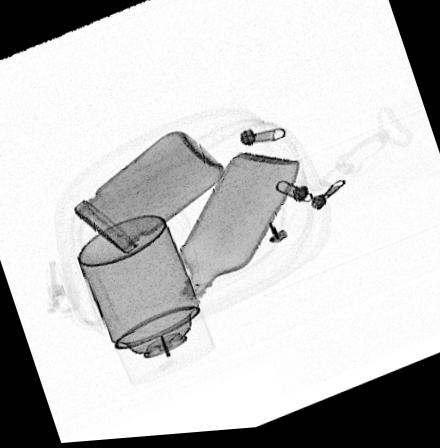Sprayer: (79, 217, 217, 389)
